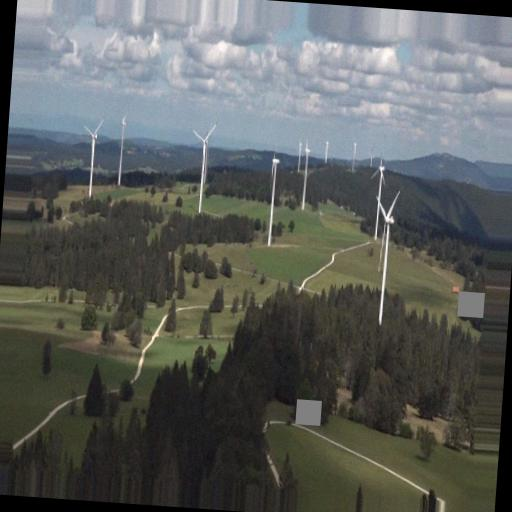wind turbine: (375, 192, 401, 320), (191, 122, 217, 210), (82, 118, 104, 198)
